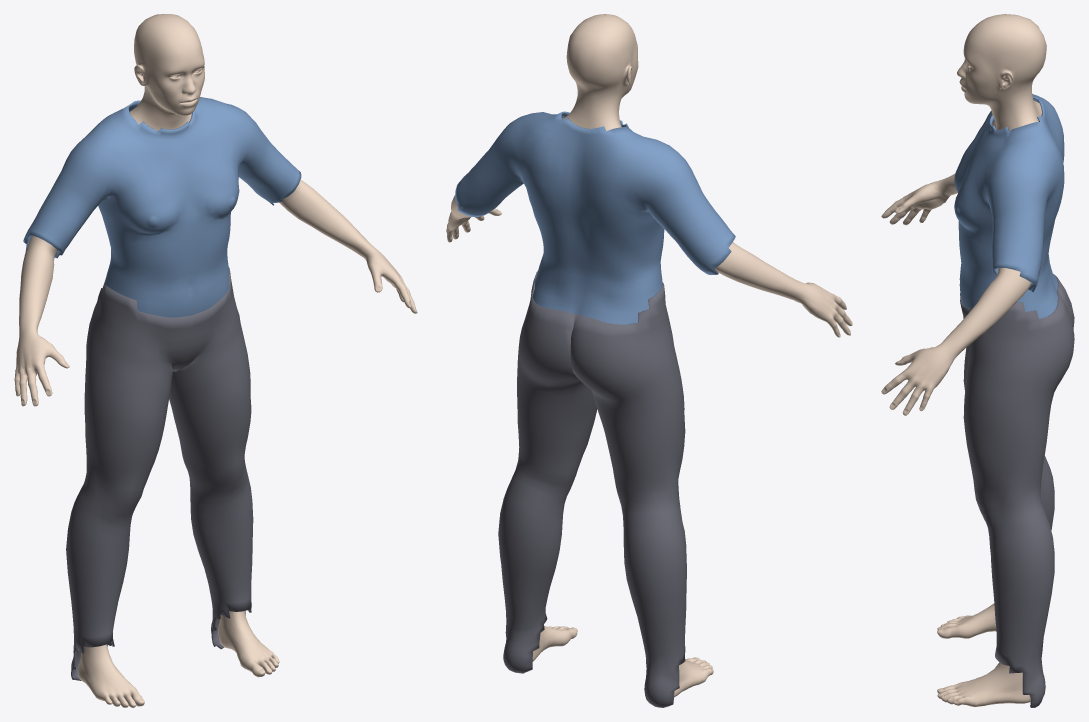
Rendered from dressed_avatar.glb.
3 views of the same model, side by side, from view 1: azimuth 30°, elevation 25°; view 2: azimuth 150°, elevation 25°; view 3: azimuth 270°, elevation 25° (orthographic).
Visible parts, largest first — view 1: garment_trousers, garment_tshirt, Human_gen; view 2: garment_trousers, garment_tshirt, Human_gen; view 3: garment_trousers, Human_gen, garment_tshirt.
Part boxes in pixels (left/top/right/bottom): garment_trousers: left=66, top=267, right=253, bottom=680; garment_tshirt: left=23, top=97, right=301, bottom=317; Human_gen: left=14, top=14, right=417, bottom=707; garment_trousers: left=498, top=271, right=686, bottom=707; garment_tshirt: left=455, top=111, right=735, bottom=324; Human_gen: left=446, top=14, right=852, bottom=697; garment_trousers: left=960, top=274, right=1074, bottom=707; Human_gen: left=881, top=14, right=1046, bottom=706; garment_tshirt: left=954, top=94, right=1064, bottom=319.
Bounding box in the file's own units: 1.05 × 1.67 × 0.4469.
